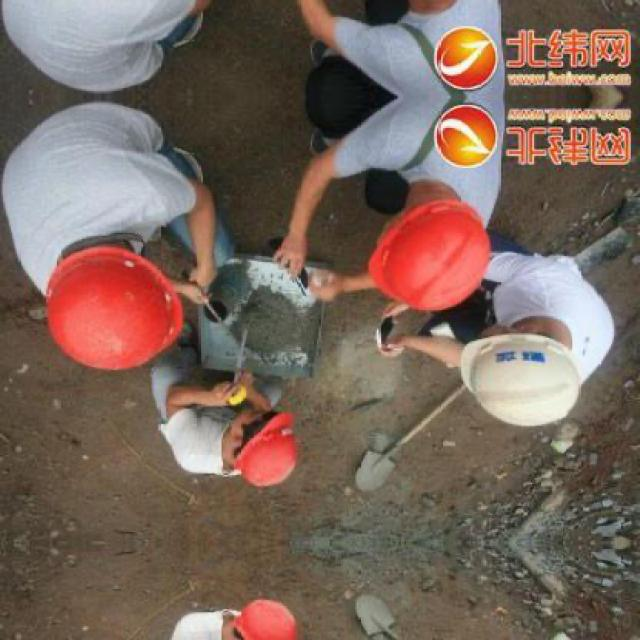con casco: (0, 196, 171, 410), (354, 102, 492, 335), (185, 376, 332, 556), (455, 289, 581, 450)
